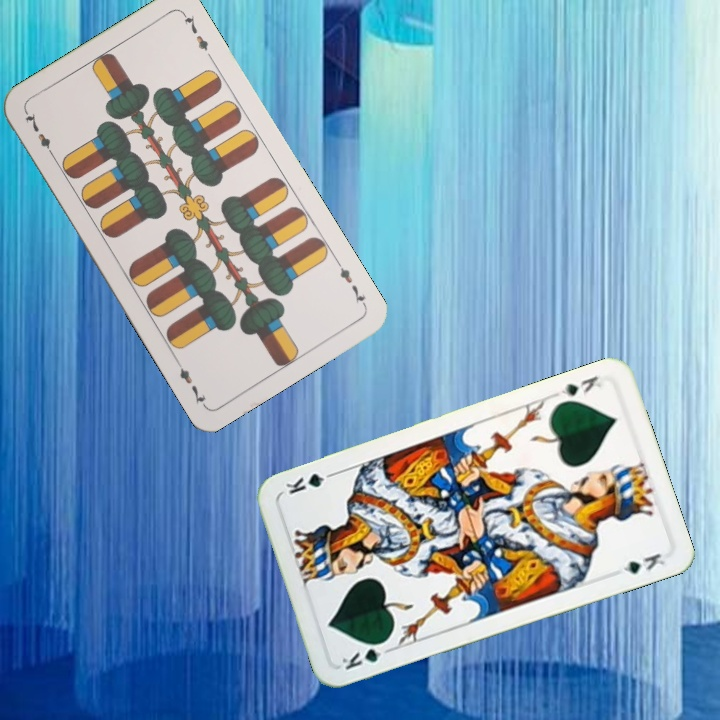E7: (21, 107, 58, 161), (332, 256, 369, 309)
GK: (338, 636, 395, 673), (557, 372, 605, 399)
